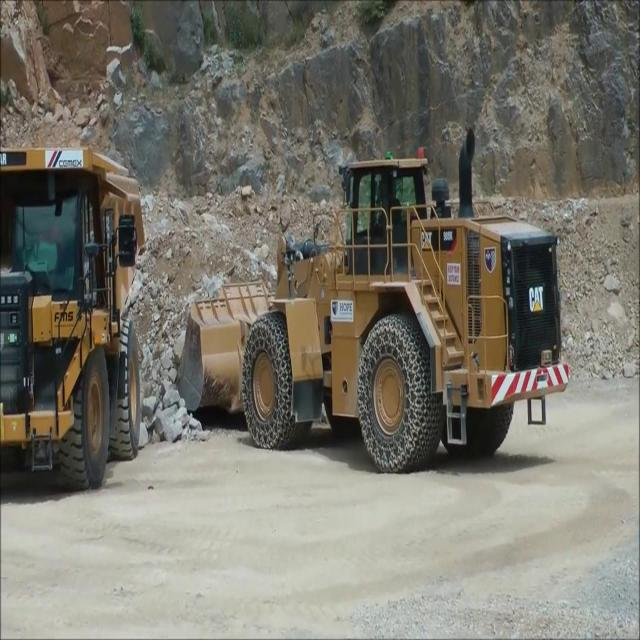Dump Truck: (0, 142, 144, 492)
Loader: (175, 125, 571, 480)
